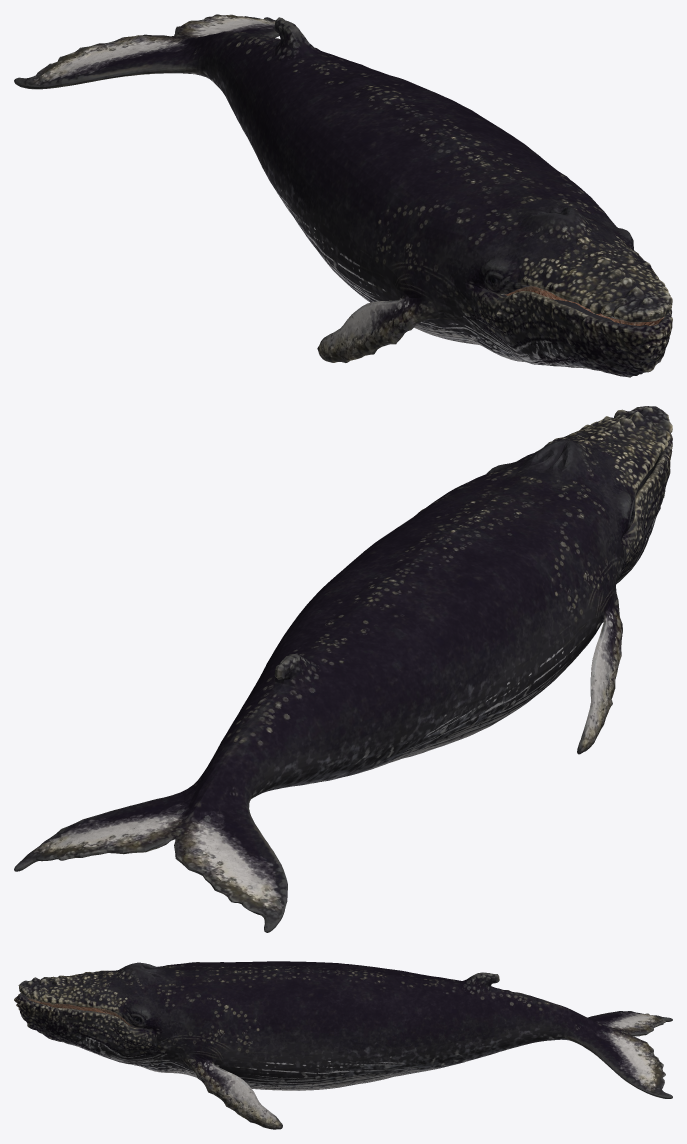
The model's file is whale.glb.
3 renders of one model, top to bottom at view 1: azimuth 30°, elevation 25°; view 2: azimuth 150°, elevation 25°; view 3: azimuth 270°, elevation 25°, orthographic. The views are drawn at different scales.
Size of the model in its own units: 0.7474 by 0.5199 by 2.5.
Materials: 1 (1 with a texture image).
